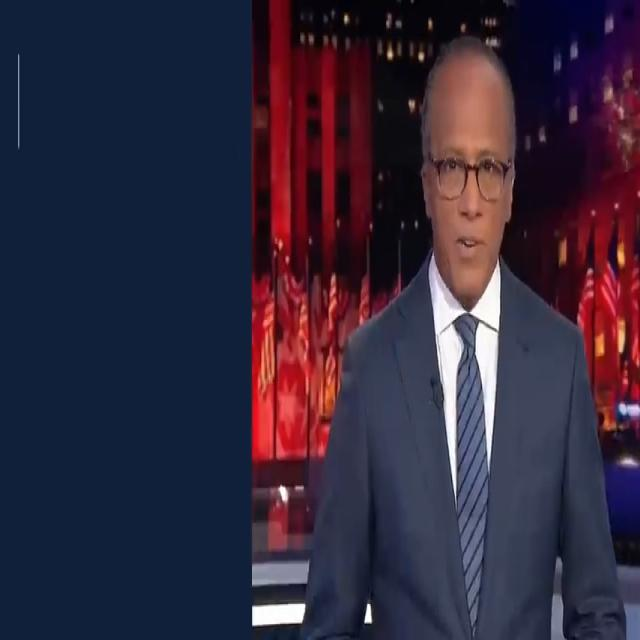non-fight: (299, 24, 628, 640)
